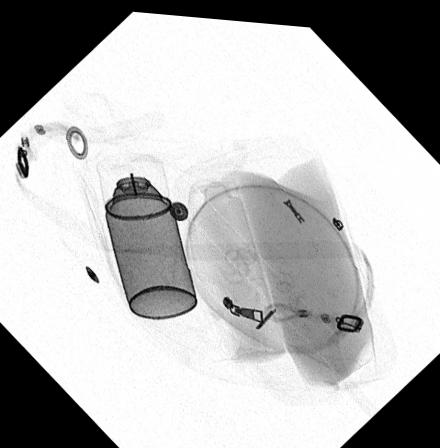Sprayer: (95, 147, 197, 314)
